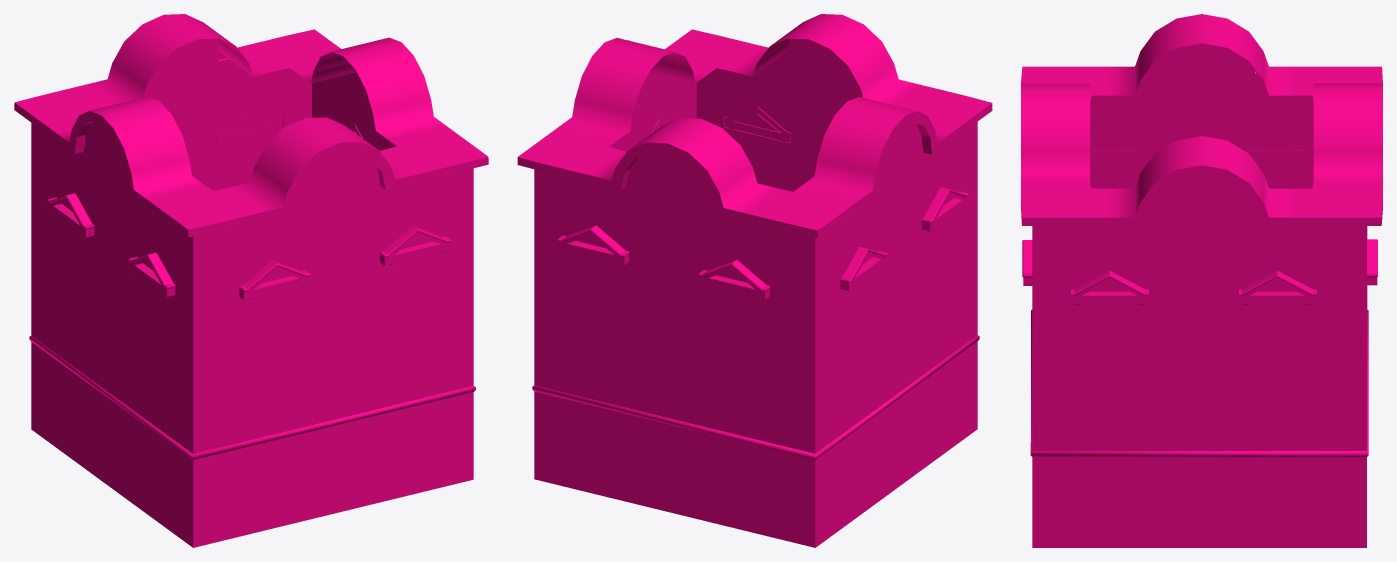
Rendered from Building_LOD2.FBX.
3 views of the same model, side by side, from view 1: azimuth 30°, elevation 25°; view 2: azimuth 150°, elevation 25°; view 3: azimuth 270°, elevation 25° (orthographic). The views are drawn at different scales.
Parts seen in each view (by area): view 1: LOD2; view 2: LOD2; view 3: LOD2.
Boxes of the visible parts, box(x1,y1,x2,y2) form: LOD2: box(14, 14, 488, 547); LOD2: box(517, 14, 992, 547); LOD2: box(1021, 14, 1382, 547).
Size of the model in its own units: 43136 by 51542 by 43592.
